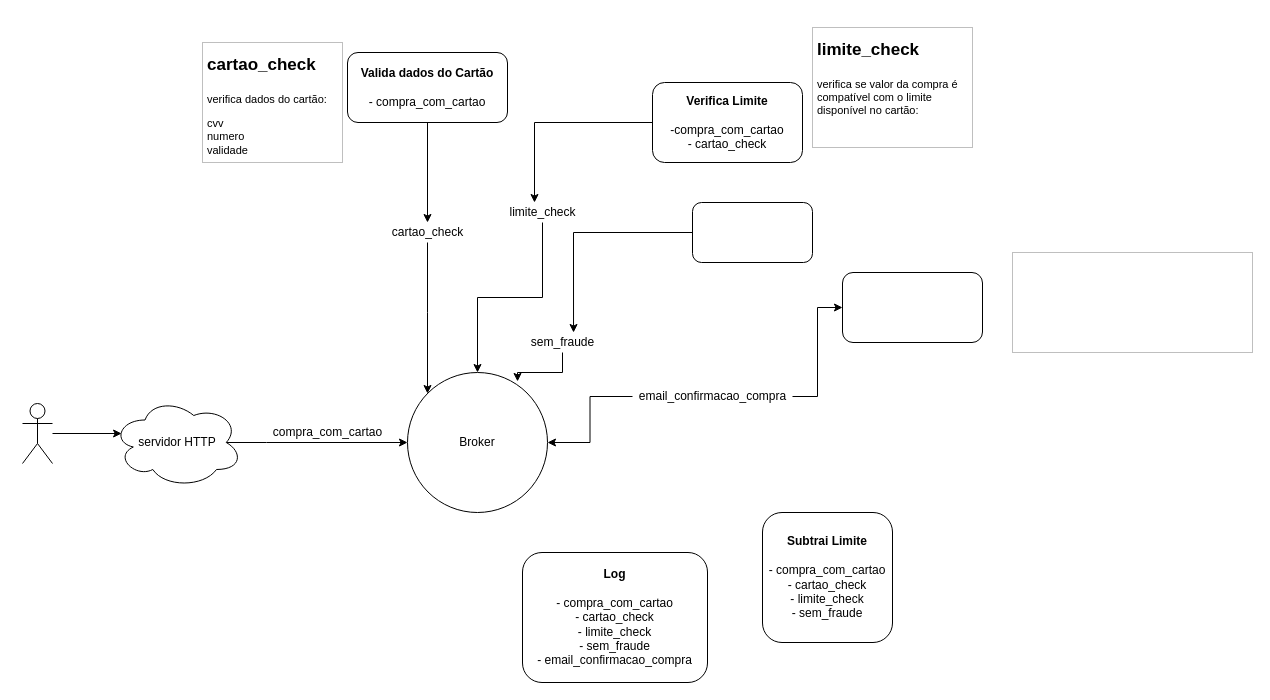
This 1270x700 diagram has some shape labels left out. Here are the shapes that lost their labels. From the top down, the centre of each, then its label:
At pixel 752 232: "Fraude? - compra_com_cartao".
At pixel 912 307: "Email - serm_fraude".
At pixel 1132 302: "email_confirmacao_compra envia email se não houver fraude".
At pixel 37 433: "Usáario".
